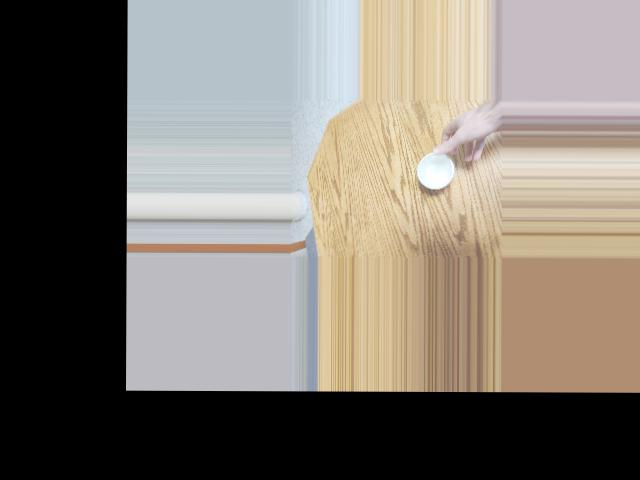cotage: (412, 145, 458, 191)
